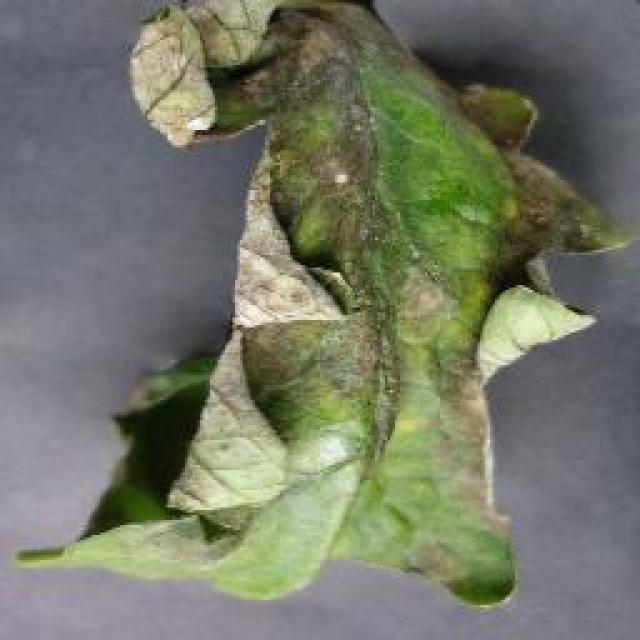Tomato___Late_blight: (10, 0, 636, 622)
